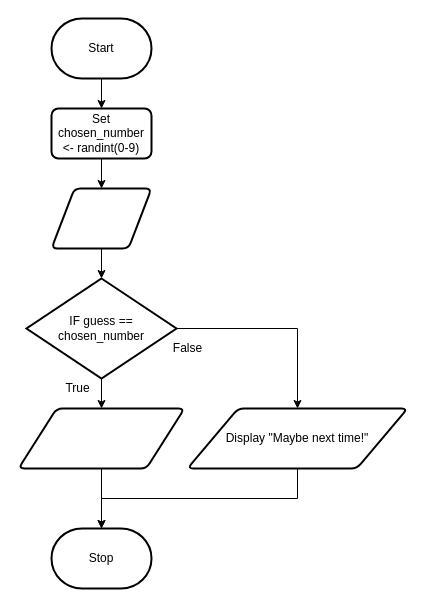
The diagram is 425 pixels wide and 606 high, and some of its shapes have lost their labels. Here are the shapes that lost their labels. From the top down, the centre of each, then its label:
(x=101, y=218): Get guess
(x=101, y=438): Display "You got it!"
